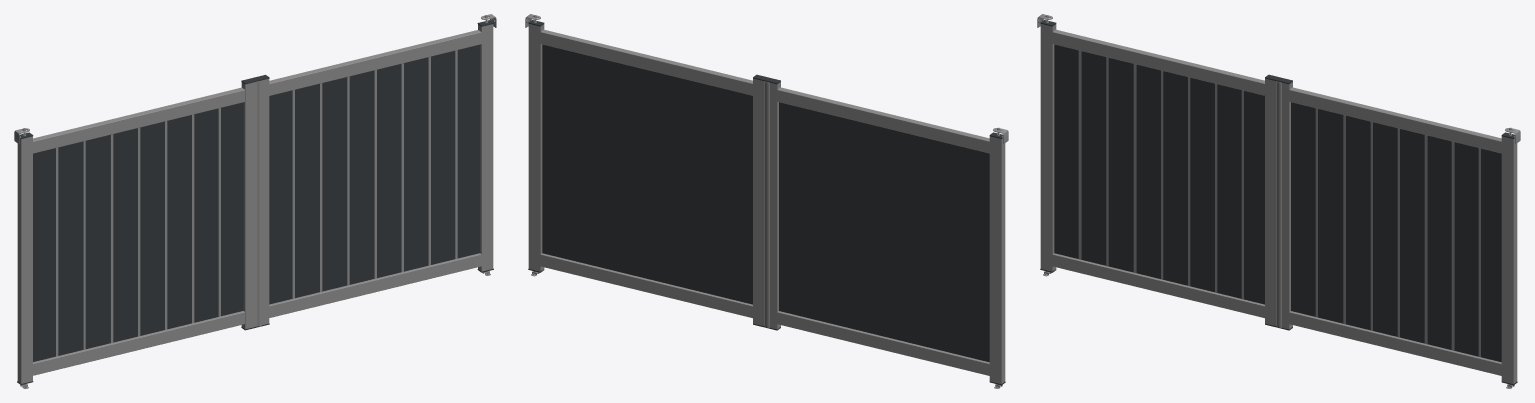
3 views of the same model, side by side, from view 1: azimuth 30°, elevation 25°; view 2: azimuth 150°, elevation 25°; view 3: azimuth 330°, elevation 25° (orthographic).
Parts seen in each view (by area): view 1: Chapa Alucobond022, Chapa Alucobond038, Shape107412643, Shape107412740, Shape107412638, Shape107412618, Shape107412756, Shape107412619, Shape107412757, Shape107412739, Shape107412637, Line051 (+13 smaller); view 2: Chapa Alucobond022, Chapa Alucobond038, Shape107412643, Shape107412740, Shape107412756, Shape107412618, Shape107412619, Shape107412757, Shape107412739, Shape107412638, Shape107412738; view 3: Chapa Alucobond038, Chapa Alucobond022, Shape107412740, Shape107412643, Shape107412618, Shape107412756, Shape107412757, Shape107412619, Shape107412638, Shape107412739, Shape107412637, Line049 (+13 smaller).
Part boxes in pixels (x1,y1,x2,y2): Chapa Alucobond022: (269, 44, 479, 304); Chapa Alucobond038: (33, 102, 243, 361); Shape107412643: (17, 136, 32, 383); Shape107412740: (478, 24, 493, 271); Shape107412638: (241, 81, 256, 329); Shape107412618: (269, 30, 481, 95); Shape107412756: (33, 87, 244, 153); Shape107412619: (269, 253, 481, 317); Shape107412757: (33, 311, 244, 375); Shape107412739: (258, 78, 269, 324); Shape107412637: (257, 81, 261, 326); Line051: (110, 134, 113, 343); Chapa Alucobond022: (542, 44, 752, 304); Chapa Alucobond038: (779, 102, 989, 362); Shape107412643: (989, 136, 1005, 383); Shape107412740: (528, 24, 544, 271); Shape107412756: (777, 87, 989, 153); Shape107412618: (540, 29, 752, 95); Shape107412619: (540, 253, 752, 318); Shape107412757: (777, 311, 989, 375); Shape107412739: (753, 78, 764, 326); Shape107412638: (765, 81, 780, 329); Shape107412738: (765, 81, 769, 327); Chapa Alucobond038: (1054, 44, 1264, 304); Chapa Alucobond022: (1291, 102, 1501, 362); Shape107412740: (1501, 136, 1517, 383); Shape107412643: (1040, 24, 1056, 271); Shape107412618: (1289, 87, 1501, 153); Shape107412756: (1052, 29, 1264, 95); Shape107412757: (1052, 253, 1264, 318); Shape107412619: (1289, 311, 1501, 375); Shape107412638: (1265, 78, 1276, 326); Shape107412739: (1277, 81, 1292, 329); Shape107412637: (1277, 81, 1281, 327); Line049: (1078, 50, 1081, 259).
Size of the model in its own units: 3260 by 1688 by 68.93.
5 materials, 2 textured.
